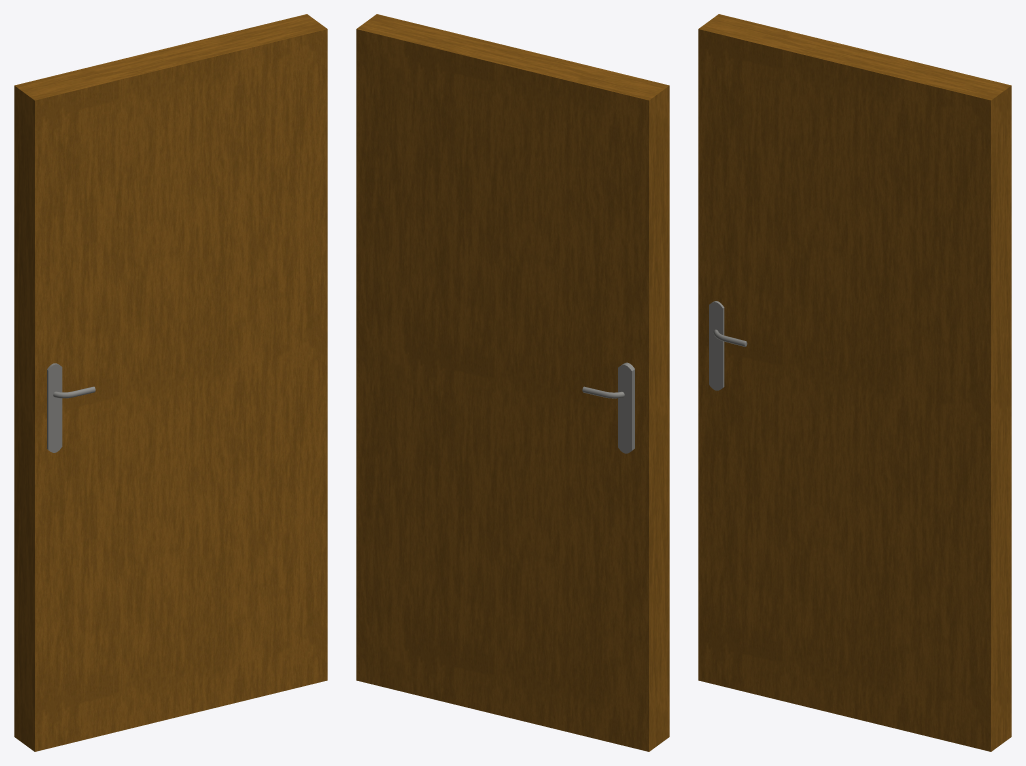
Rendered from InsideDoor.FBX.
The picture shows the model from 3 angles, left to right: view 1: azimuth 30°, elevation 25°; view 2: azimuth 150°, elevation 25°; view 3: azimuth 330°, elevation 25°; orthographic projection.
Parts seen in each view (by area): view 1: Box001, Box002; view 2: Box001, Box003; view 3: Box001, Box002.
Boxes of the visible parts, x1,y1,x2,y2 form: Box001: (14,14,327,751); Box002: (47,363,62,452); Box001: (356,14,669,751); Box003: (618,362,634,453); Box001: (698,14,1011,751); Box002: (709,301,724,390).
Size of the model in its own units: 53.63 by 114 by 11.57.
Materials: 2 (2 with a texture image).
